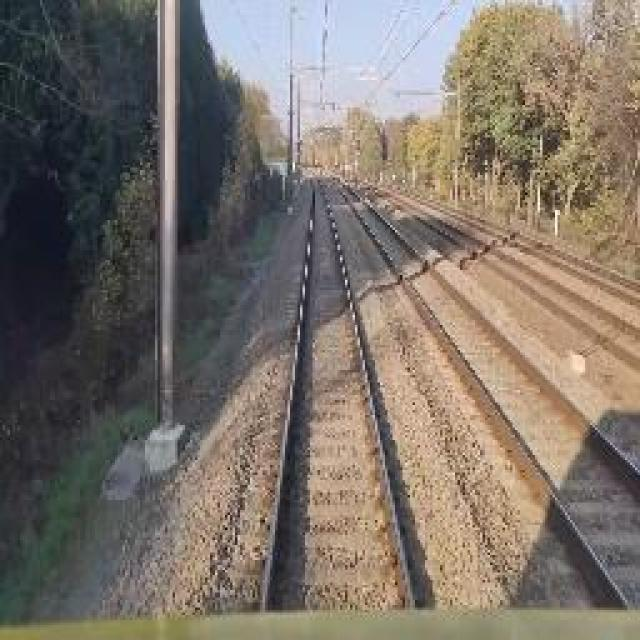rail: (314, 169, 640, 608), (231, 166, 445, 607), (336, 173, 640, 387)
